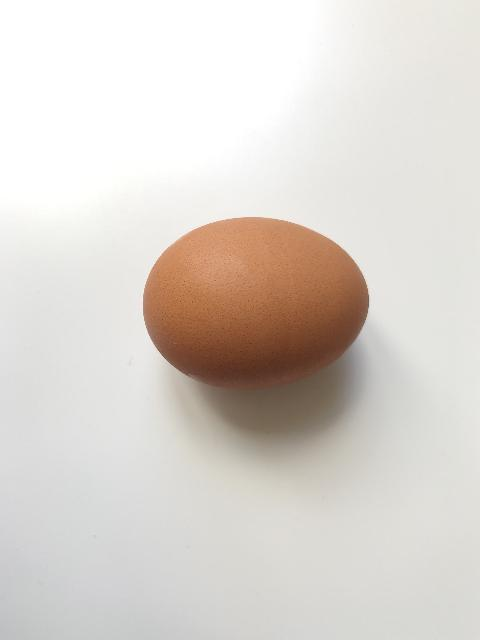Sano: (142, 216, 369, 393)
